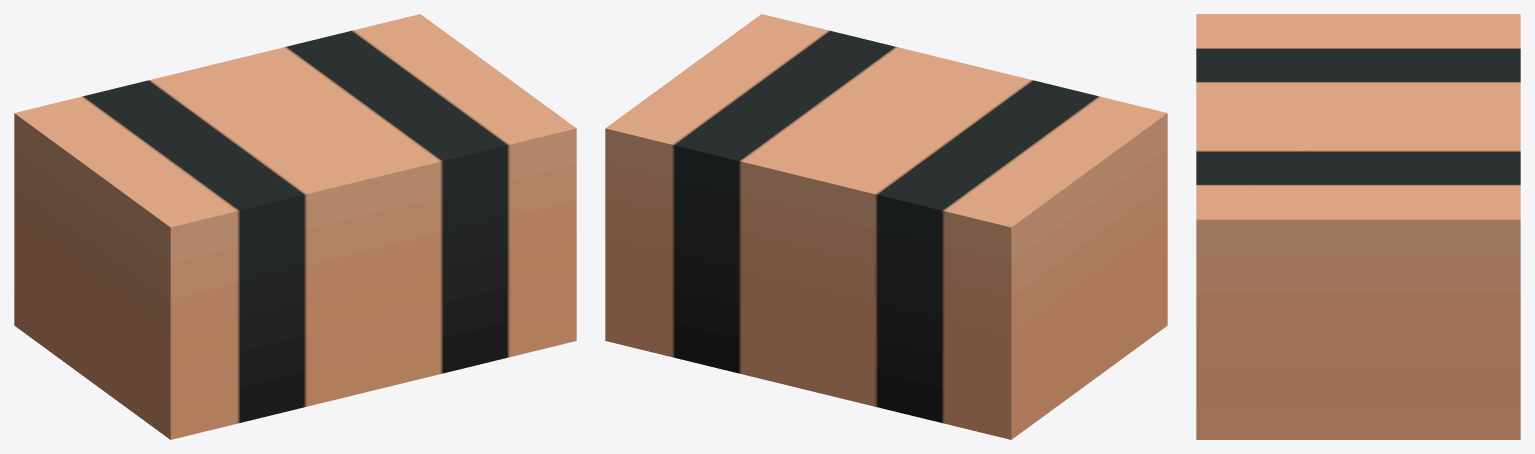
File: Spine064.fbx
3 renders of one model, left to right at view 1: azimuth 30°, elevation 25°; view 2: azimuth 150°, elevation 25°; view 3: azimuth 270°, elevation 25°, orthographic. The views are drawn at different scales.
Parts seen in each view (by area): view 1: Spine064; view 2: Spine064; view 3: Spine064.
Boxes of the visible parts, left/top/right/bottom form: Spine064: left=14, top=14, right=576, bottom=439; Spine064: left=605, top=14, right=1167, bottom=439; Spine064: left=1196, top=14, right=1520, bottom=439.
Size of the model in its own units: 12 by 6 by 8.
